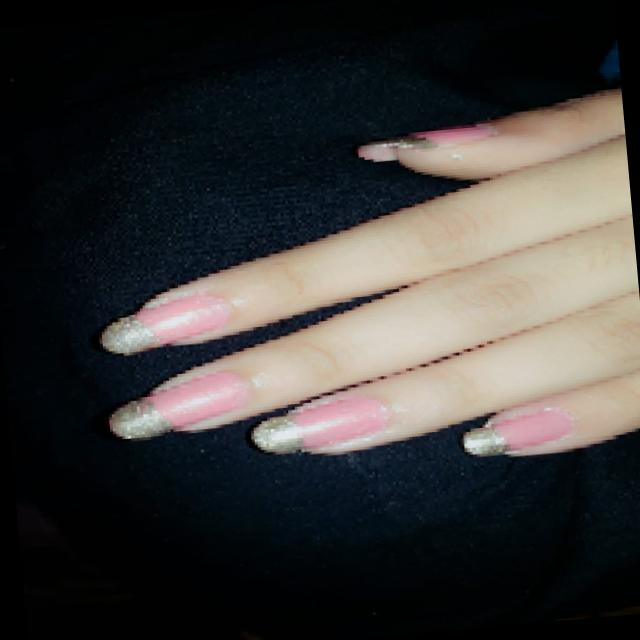Nail: (109, 371, 248, 438), (250, 396, 387, 452), (98, 293, 227, 352), (462, 406, 573, 455), (361, 121, 496, 147)
